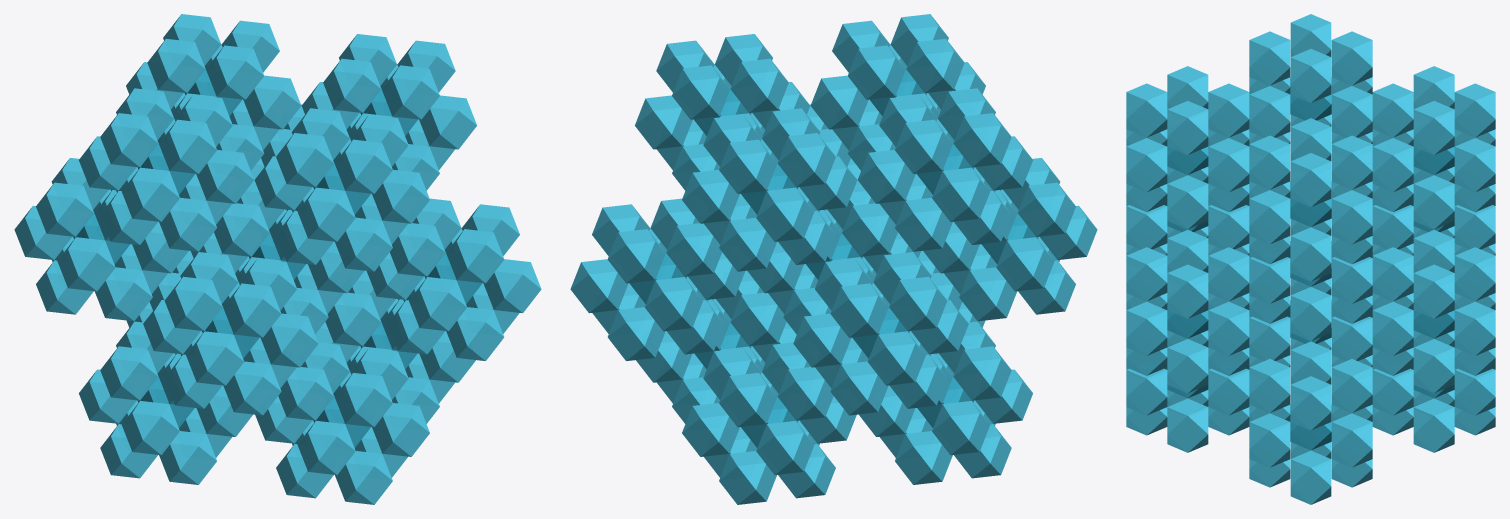
The model's file is fractalcuboctahedron2.glb.
3 views of the same model, side by side, from view 1: azimuth 30°, elevation 25°; view 2: azimuth 150°, elevation 25°; view 3: azimuth 270°, elevation 25° (orthographic). The views are drawn at different scales.
Bounding box in the file's own units: 8.75 × 8.75 × 8.75.
